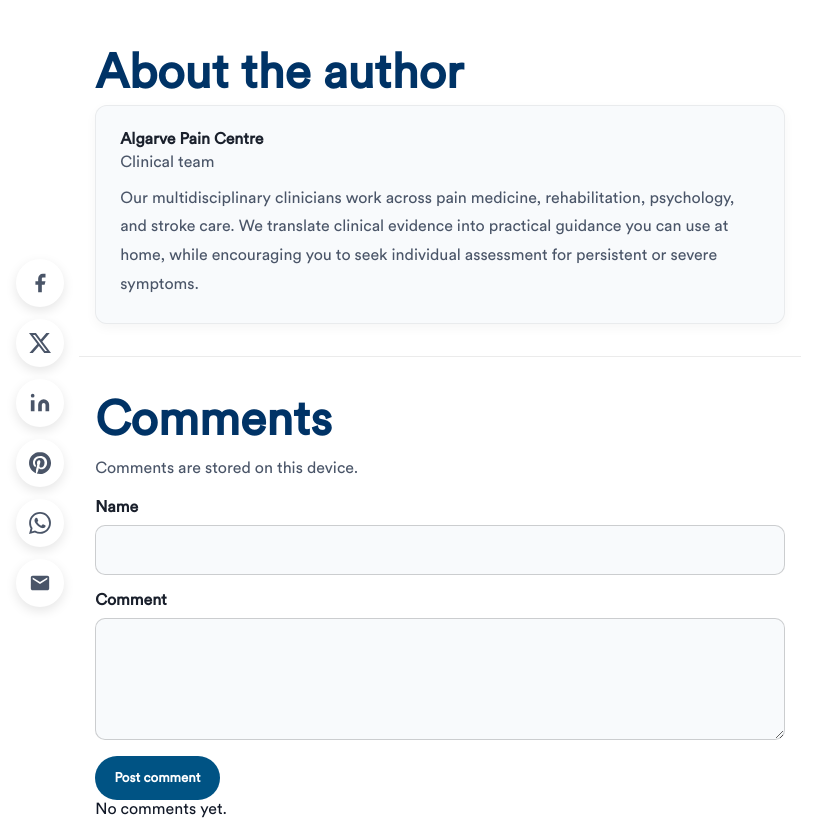
it: BlogArticlePage › allows posting a comment
The image size is (818, 836).
(page scrolled)
Type "Sam" into the field labelled "Name".
click(440, 550); type("Sam")  # box top-left (95, 525), bottom-right (785, 575)
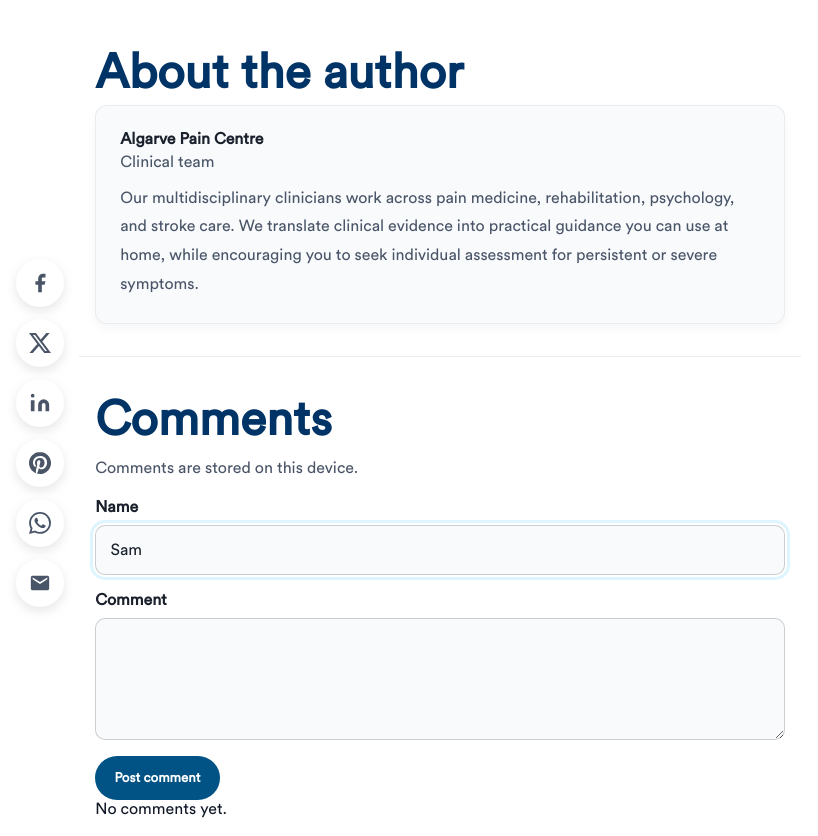
Type "This was helpful and clearly explained." into the text box labelled "Comment".
click(440, 679); type("This was helpful and clearly explained.")  # box top-left (95, 618), bottom-right (785, 740)
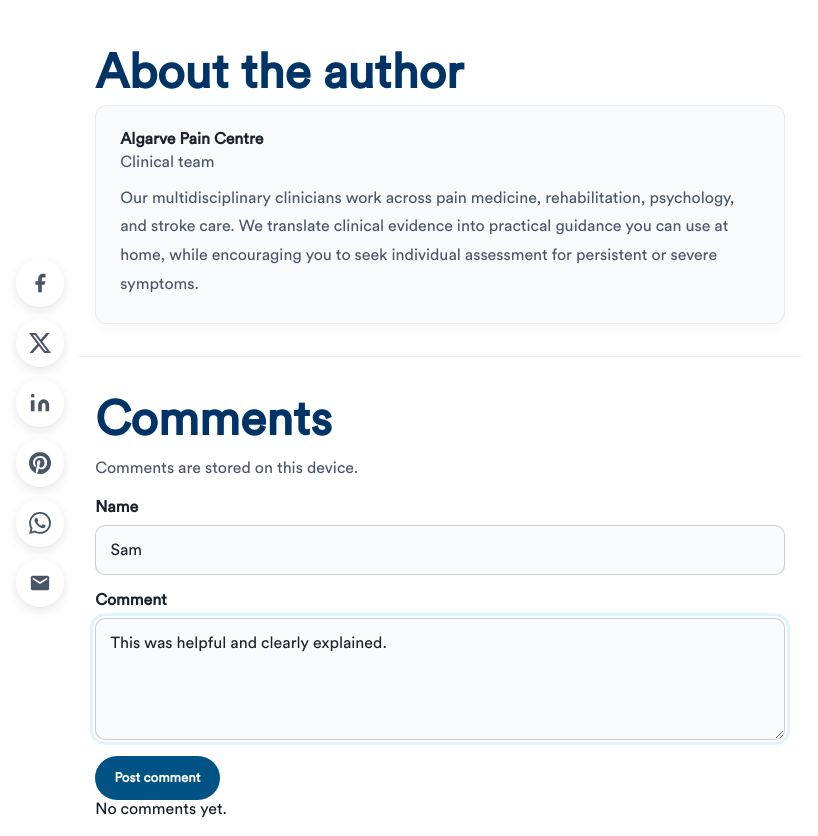
Click the button "Post comment".
click(157, 778)  # box top-left (95, 756), bottom-right (220, 800)
(page scrolled)
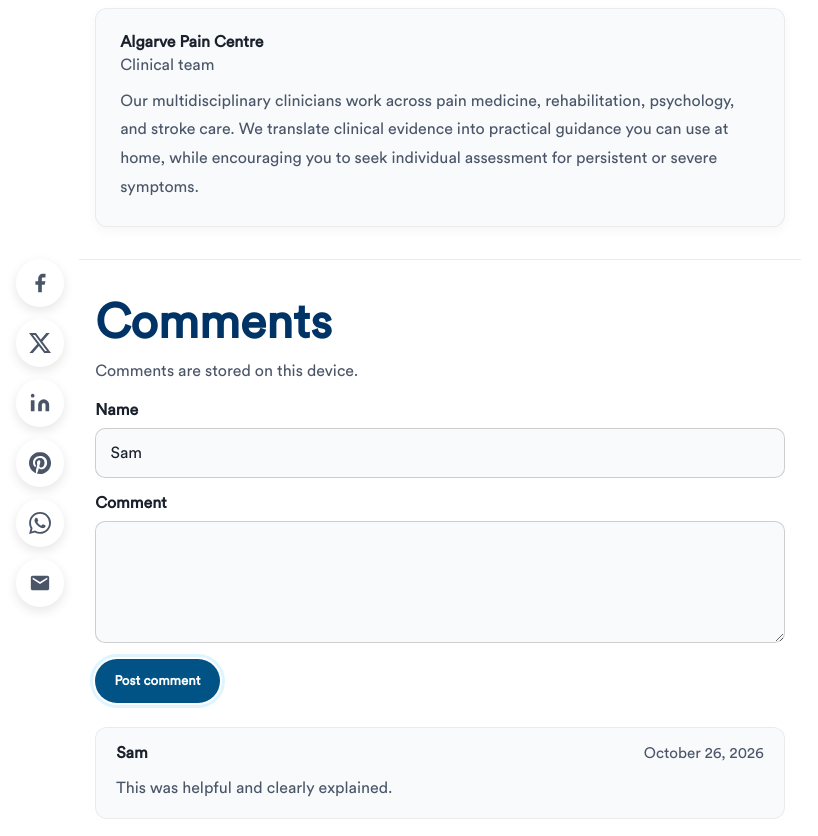
Expected: the text "Sam" is shown, top-left (116, 744), bottom-right (148, 763)
Expected: the text "This was helpful and clearly explained." is shown, top-left (116, 780), bottom-right (392, 796)
